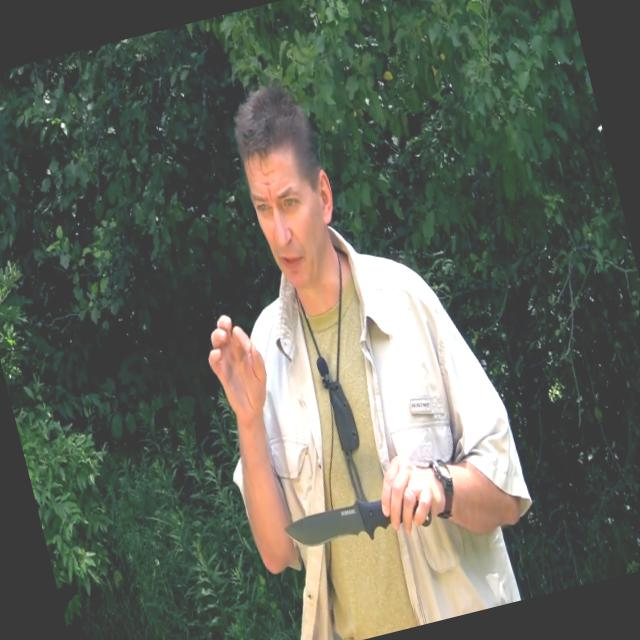knife: (270, 446, 436, 566)
